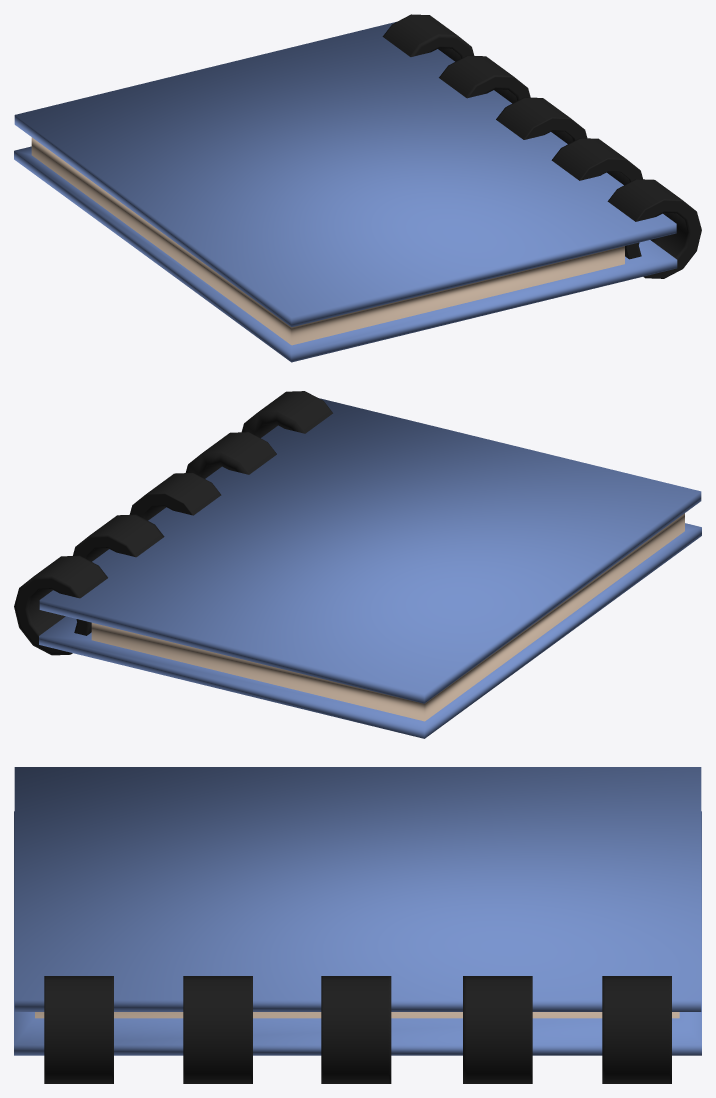
File: libretaAzul.fbx
3 views of the same model, one above another, from view 1: azimuth 30°, elevation 25°; view 2: azimuth 150°, elevation 25°; view 3: azimuth 270°, elevation 25° (orthographic). The views are drawn at different scales.
Visible parts, largest first — view 1: Cube; view 2: Cube; view 3: Cube.
Boxes of the visible parts, left/top/right/bottom form: Cube: left=14, top=14, right=701, bottom=362; Cube: left=14, top=391, right=701, bottom=738; Cube: left=14, top=767, right=701, bottom=1083.
Bounding box in the file's own units: 217 × 38.94 × 247.
